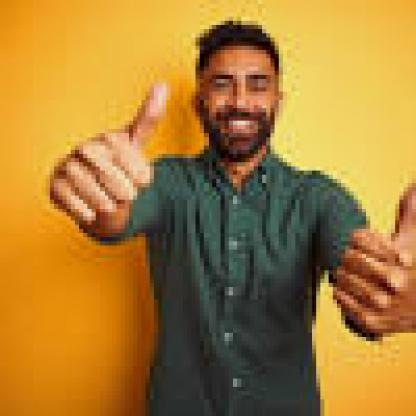Thumbs up: (25, 37, 172, 246), (333, 183, 412, 341)
